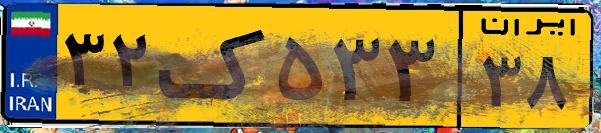2: (110, 28, 158, 98)
3: (385, 28, 445, 110), (330, 28, 385, 110), (57, 26, 110, 100), (475, 38, 525, 113)
5: (270, 28, 330, 110)
8: (525, 38, 570, 115)
ک: (158, 12, 270, 120)
